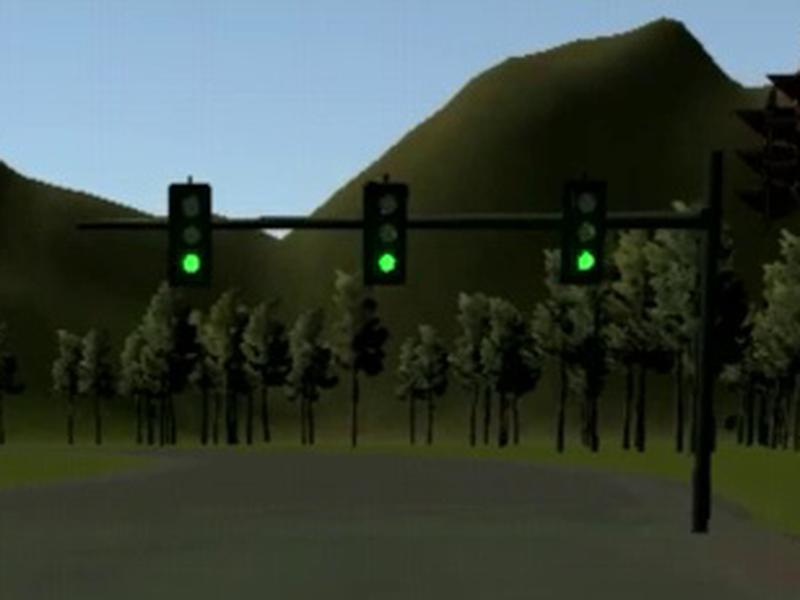Green: (560, 176, 606, 285), (168, 184, 213, 287), (364, 181, 408, 285)
